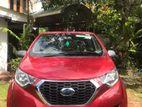car: (9, 31, 127, 107)
